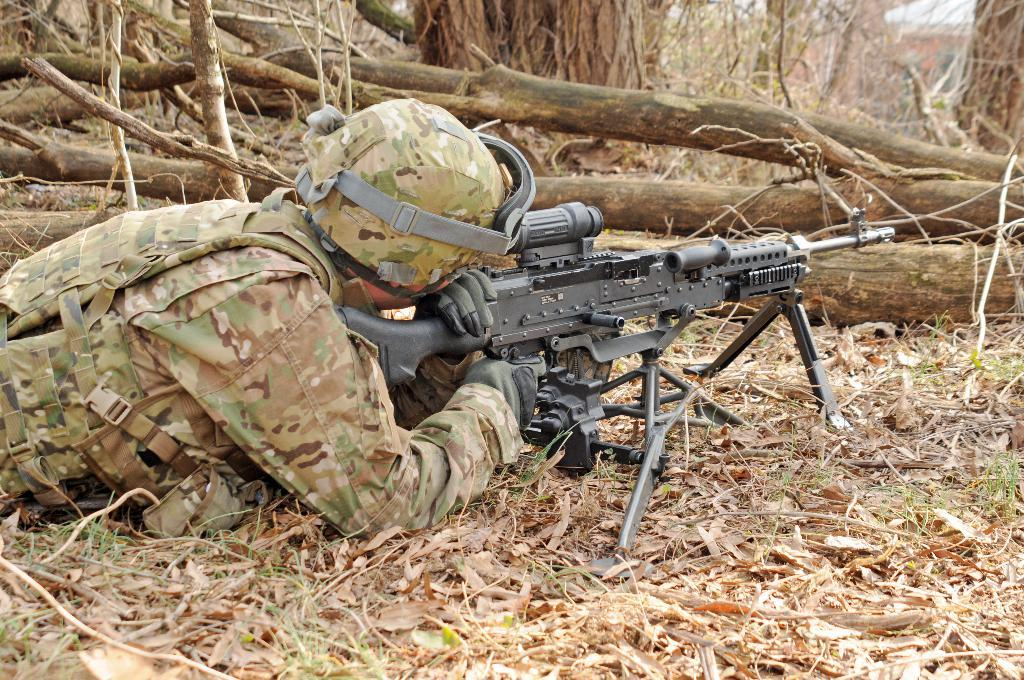Rifle: (316, 176, 908, 533)
